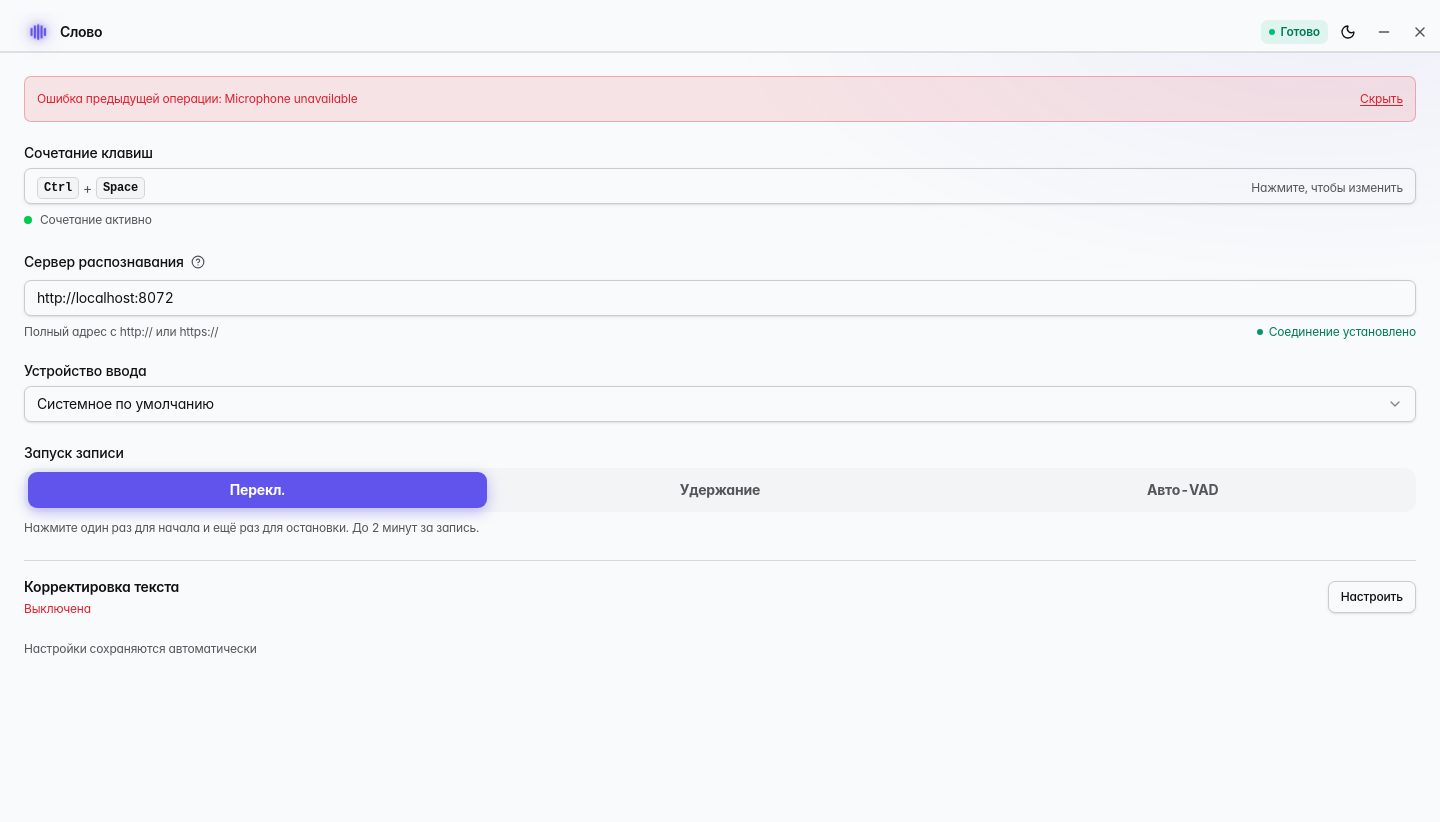
Test case: App and AppView integration › retains dictation error through a new recording and successful settings save until dismissed
This screenshot has width=1440, height=822.
Expected: the text "Сочетание активно" is shown, [40,212,152,228]
Expected: the message shows "Ошибка предыдущей операции: Microphone unavailable", [37,91,358,106]
Click the button named "Сочетание клавиш": (58,188) [24,168,1416,204]
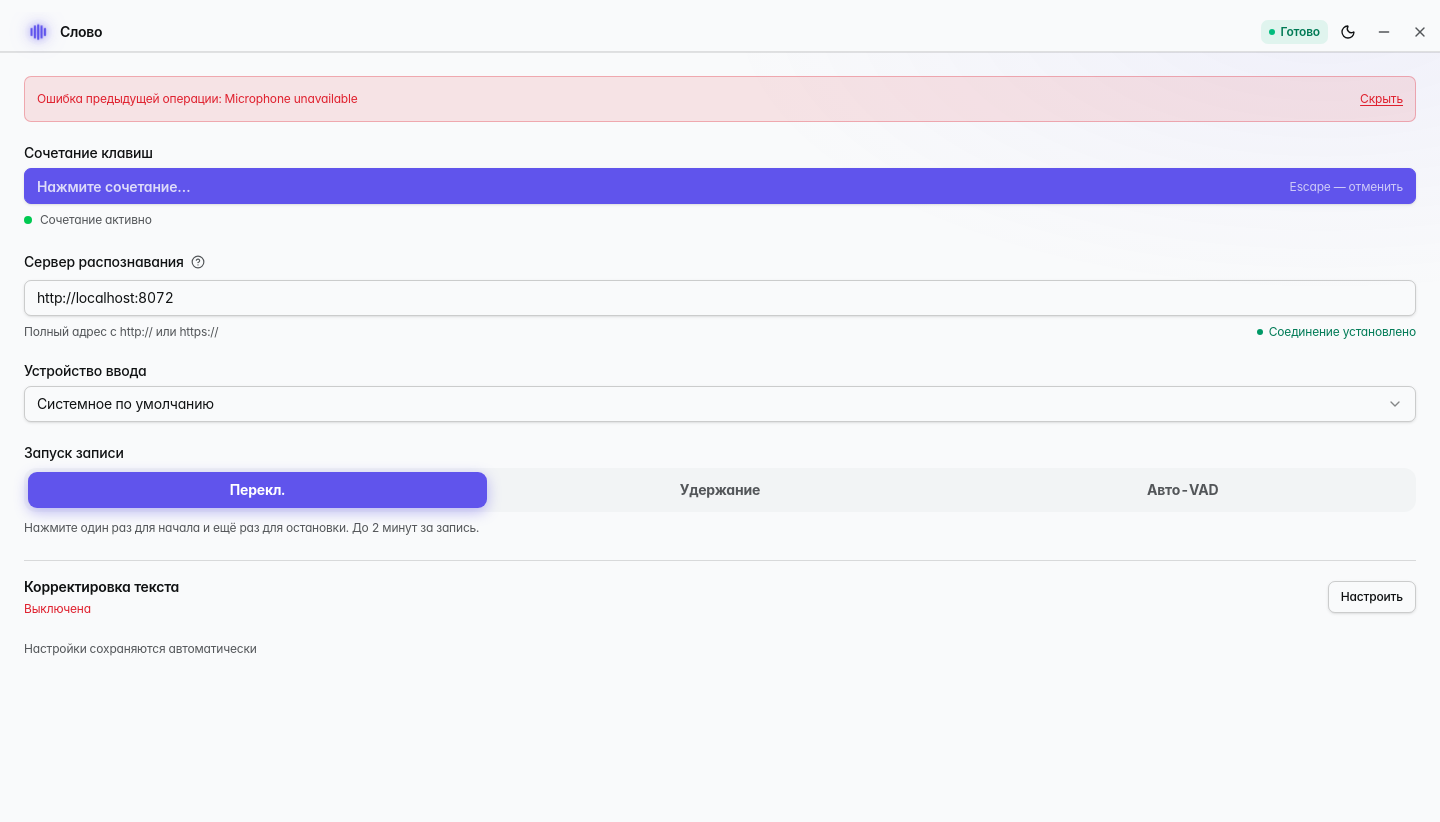
Type keys "{Control>}k{/Control}"
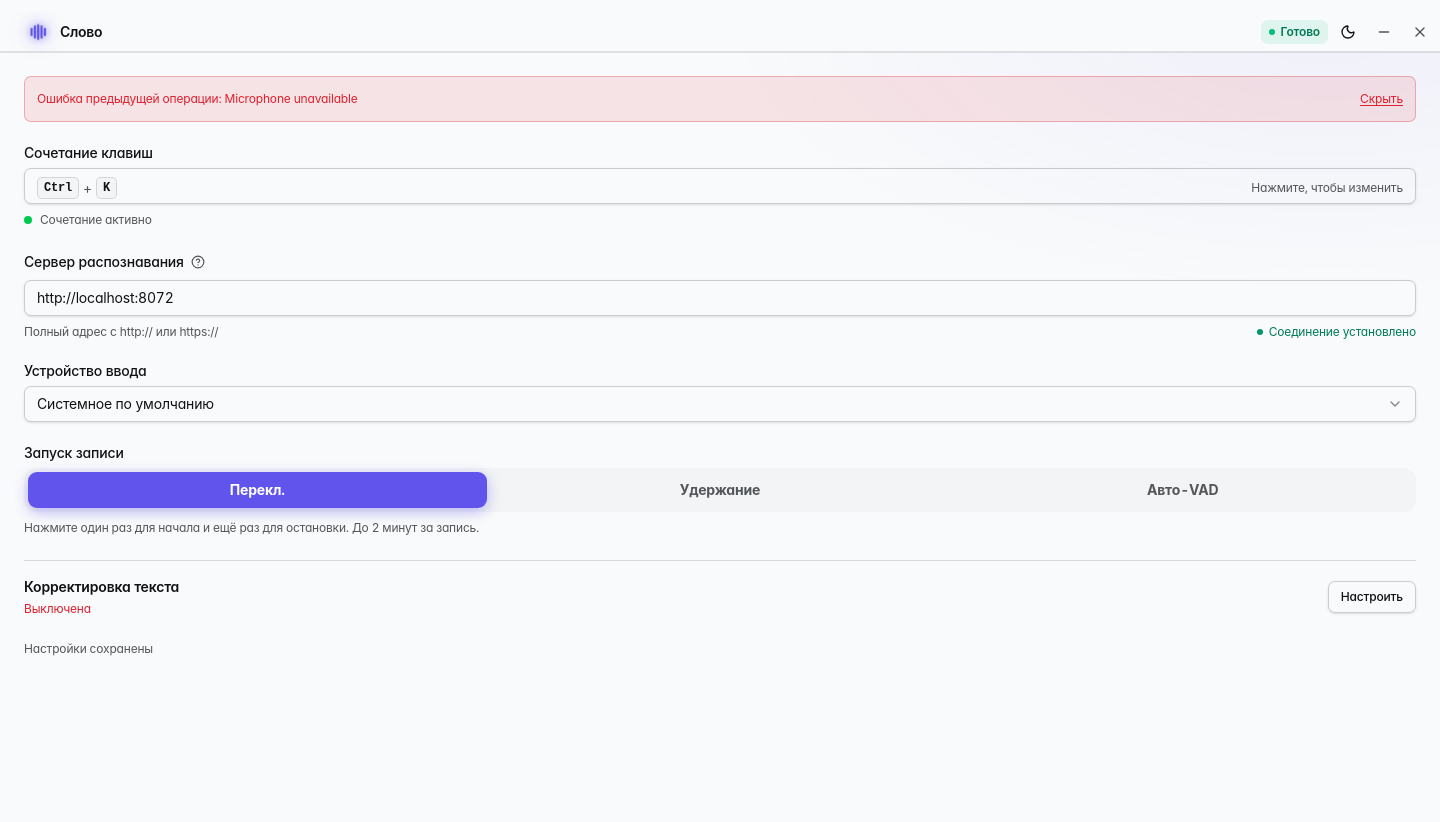
Expected: the message shows "Microphone unavailable", [37,91,358,106]
Click the button with aria-label "Скрыть ошибку предыдущей операции": (1382,99) [1360,89,1403,108]
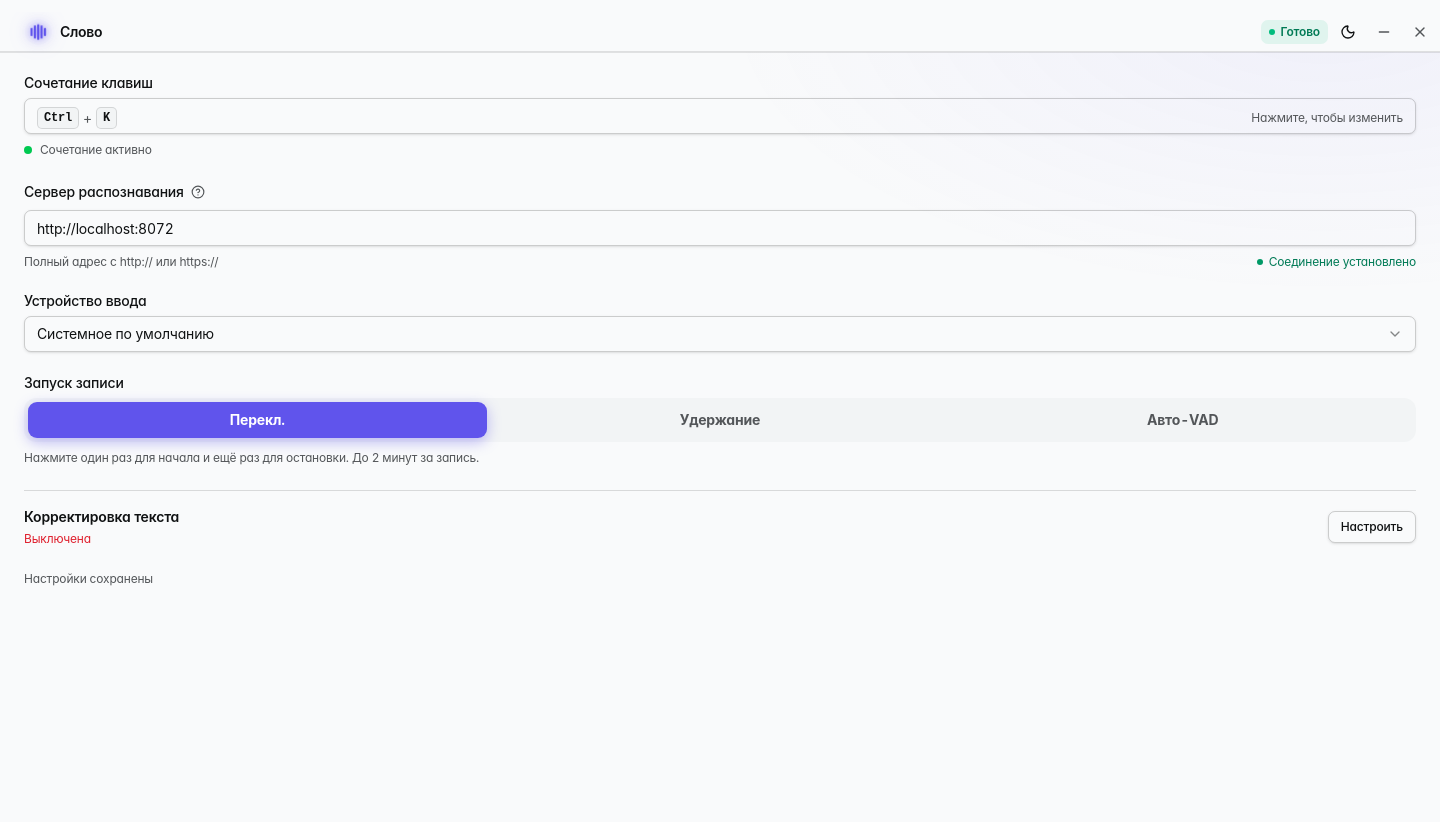
Result: the message "Ошибка предыдущей операции: Microphone unavailable Скрыть" is gone
